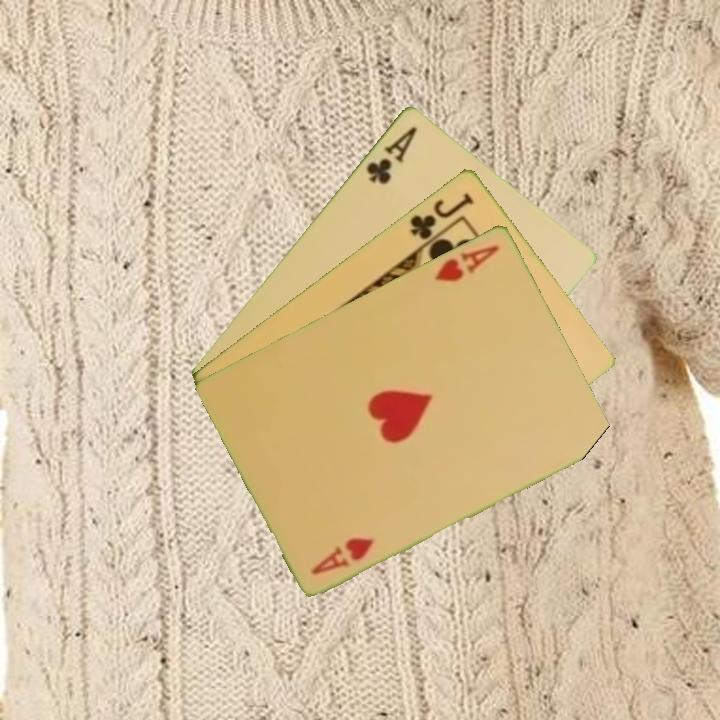Ac: (362, 122, 420, 187)
Ah: (307, 533, 378, 577), (431, 241, 503, 284)
Jc: (406, 188, 477, 242)
